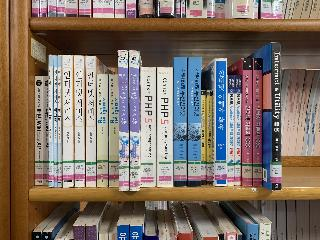book-spine: (140, 67, 157, 188), (157, 67, 173, 187), (188, 57, 202, 187), (128, 50, 140, 191), (174, 57, 187, 187), (215, 58, 228, 187), (62, 55, 74, 188), (74, 56, 86, 188), (118, 50, 129, 191), (271, 42, 281, 191), (85, 56, 96, 187), (252, 58, 263, 186), (96, 74, 108, 187), (243, 58, 253, 186), (109, 74, 119, 187), (227, 75, 235, 186), (35, 76, 43, 186), (235, 75, 242, 185), (207, 91, 213, 185), (44, 76, 49, 185), (54, 55, 58, 188), (49, 55, 53, 187), (58, 55, 62, 187), (201, 90, 206, 184)
